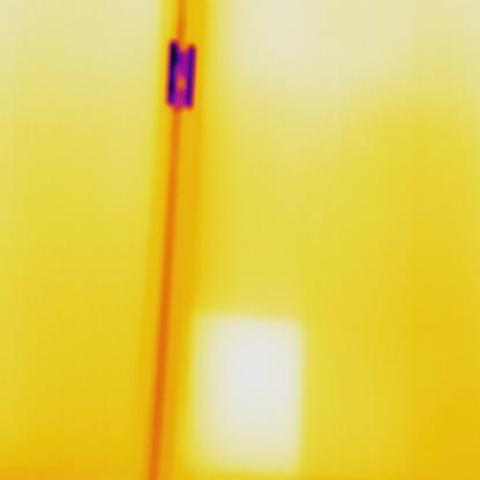fault: (189, 300, 307, 473)
